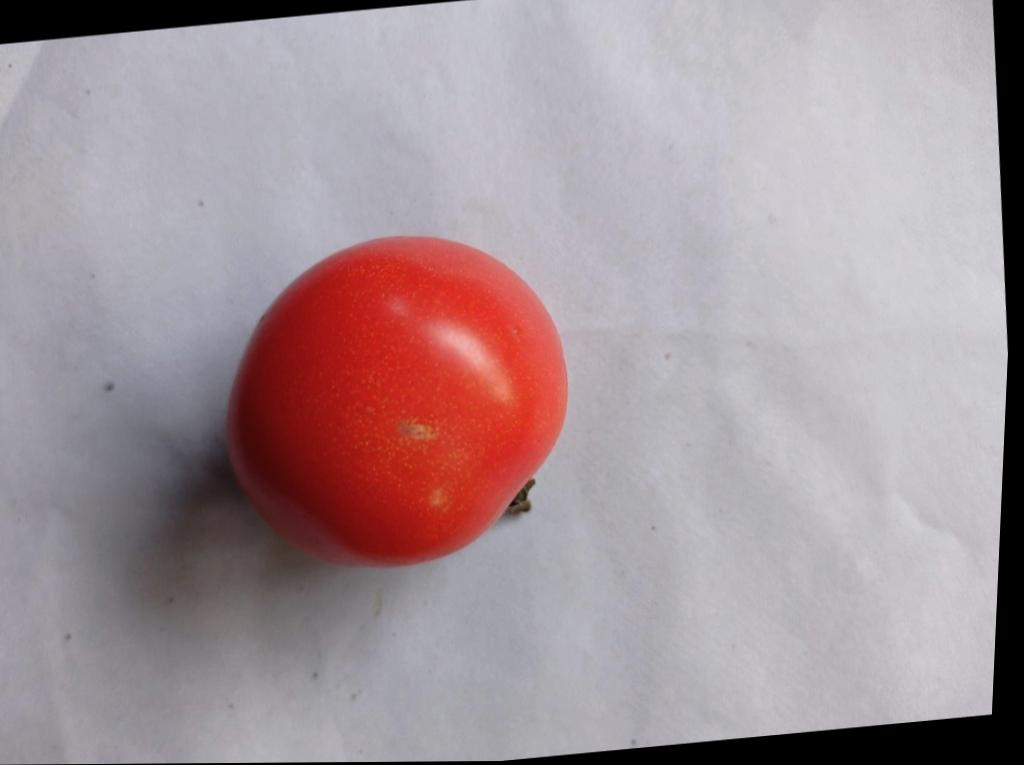tomato: (229, 237, 566, 564)
